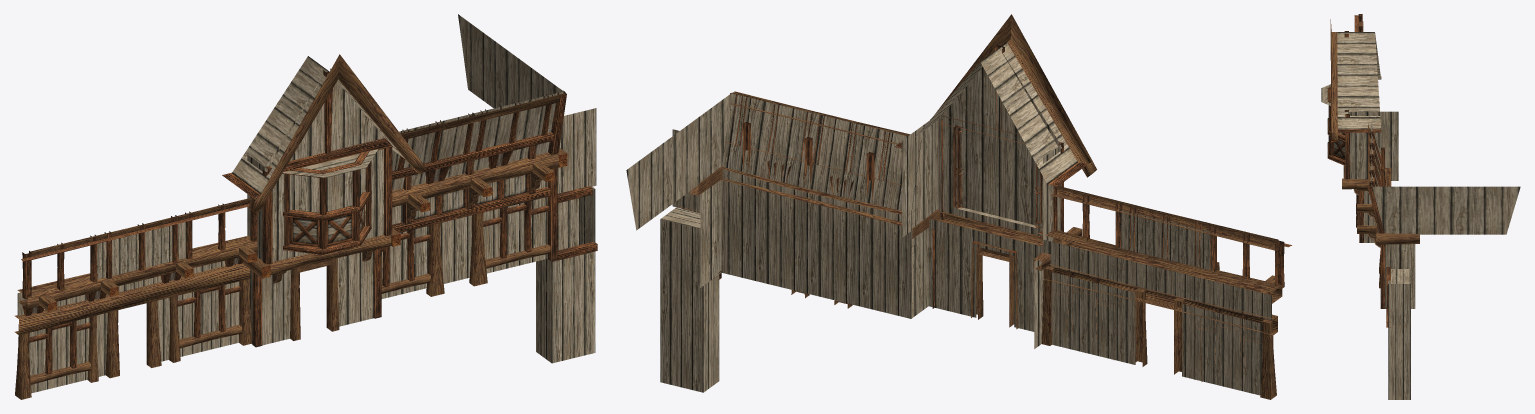
Rendered from LAKETOWN_EXTERIOR_PS_LT_HOUSEBLOCK45__GX.fbx.
3 renders of one model, left to right at view 1: azimuth 30°, elevation 25°; view 2: azimuth 150°, elevation 25°; view 3: azimuth 270°, elevation 25°, orthographic. The views are drawn at different scales.
Visible parts, largest first — view 1: LAKETOWN_EXTERIOR_PS_LT_HOUSEBLOCK45__GX; view 2: LAKETOWN_EXTERIOR_PS_LT_HOUSEBLOCK45__GX; view 3: LAKETOWN_EXTERIOR_PS_LT_HOUSEBLOCK45__GX.
Boxes of the visible parts, x1,y1,x2,y2 form: LAKETOWN_EXTERIOR_PS_LT_HOUSEBLOCK45__GX: (15,14,597,399); LAKETOWN_EXTERIOR_PS_LT_HOUSEBLOCK45__GX: (626,14,1291,399); LAKETOWN_EXTERIOR_PS_LT_HOUSEBLOCK45__GX: (1321,14,1520,399).
Size of the model in its own units: 217093 by 139034 by 88729.
11 materials, 11 textured.
